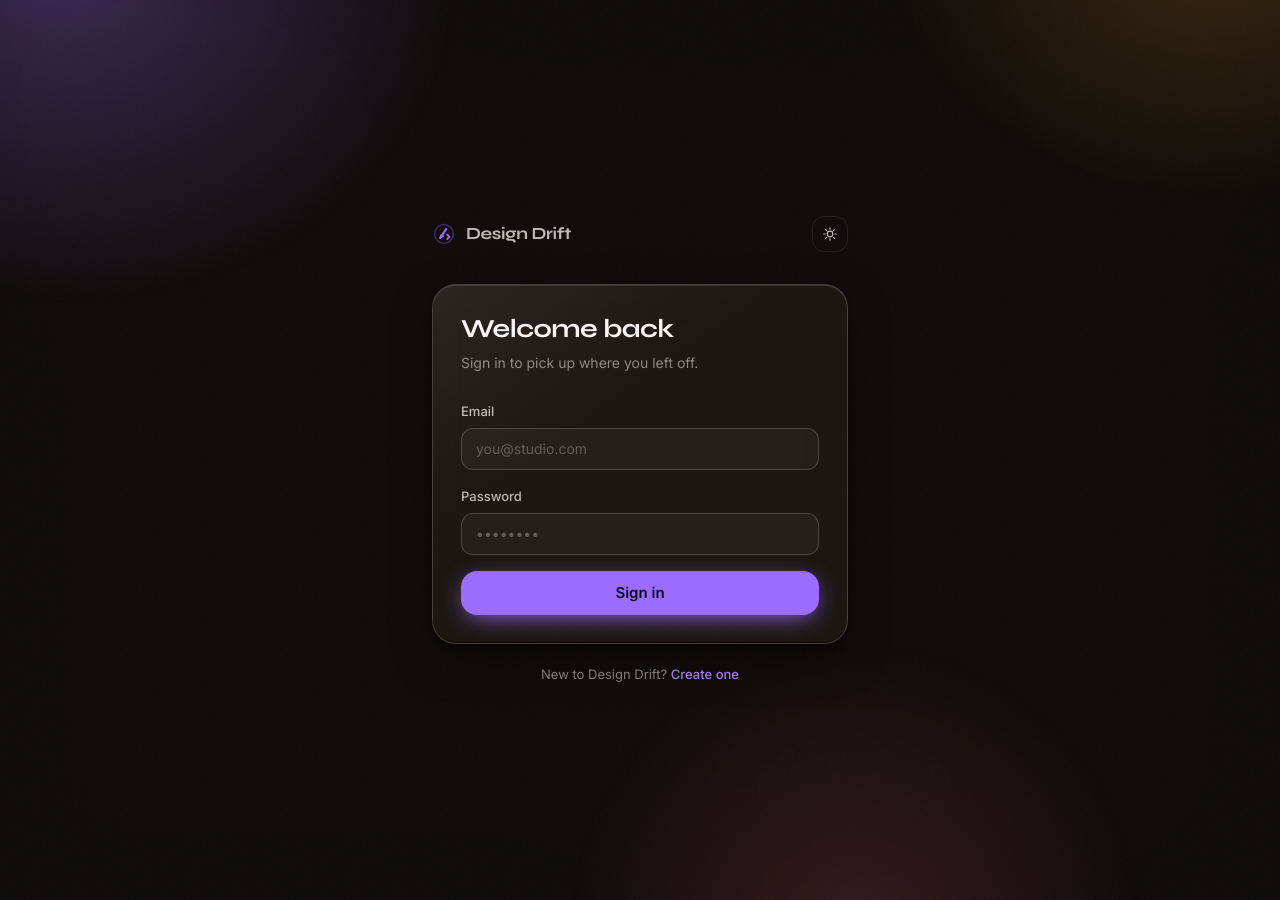
it: App › shows the API’s reason when sign-in fails, and stays on the form
Type "designer@example.com" into the field labelled "Email".
click(640, 449); type("designer@example.com")  # box [461,428,819,470]
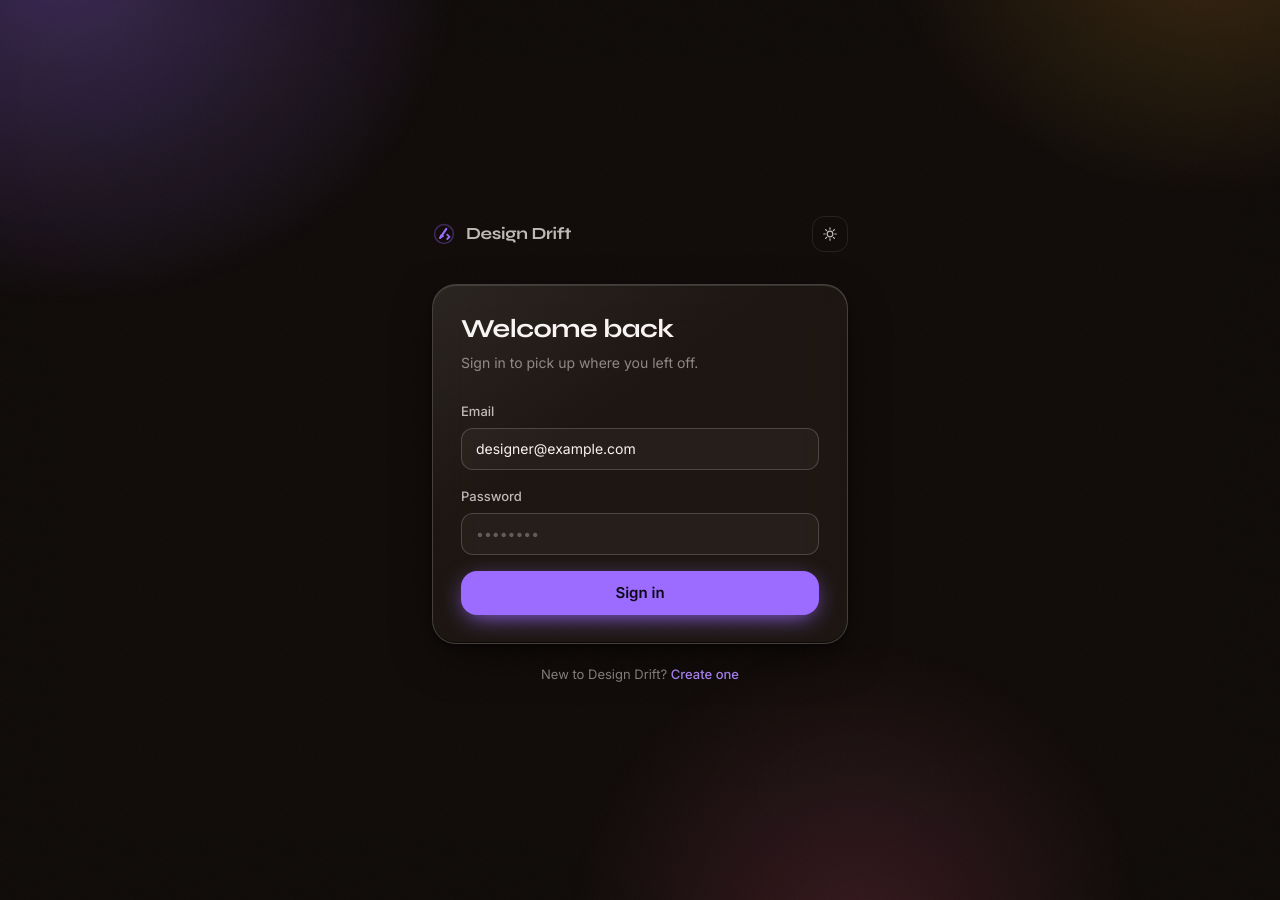
Type "wrong" into the password field labelled "Password".
click(640, 534); type("wrong")  # box [461,513,819,555]
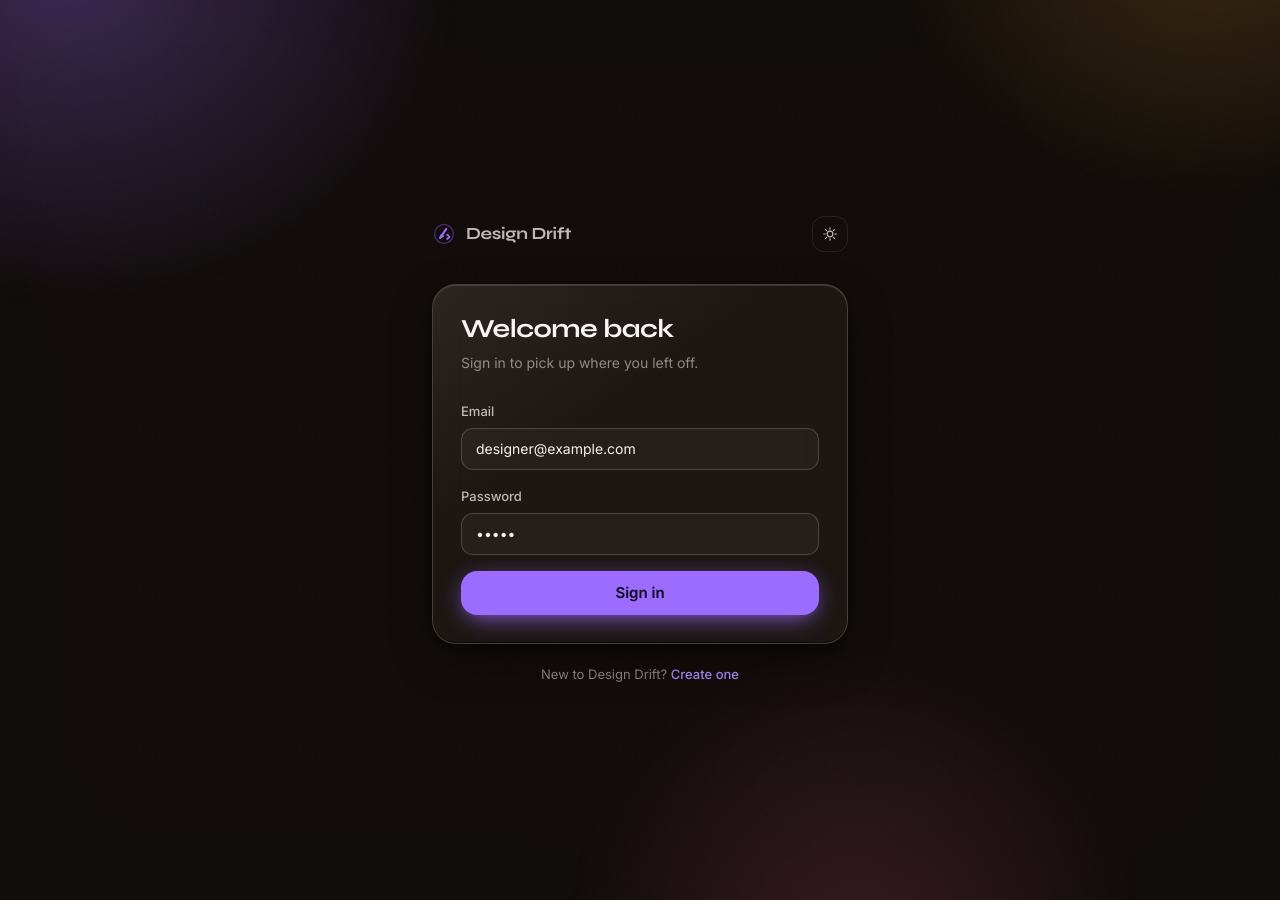
Click the button "Sign in".
click(640, 593)  # box [461,571,819,615]
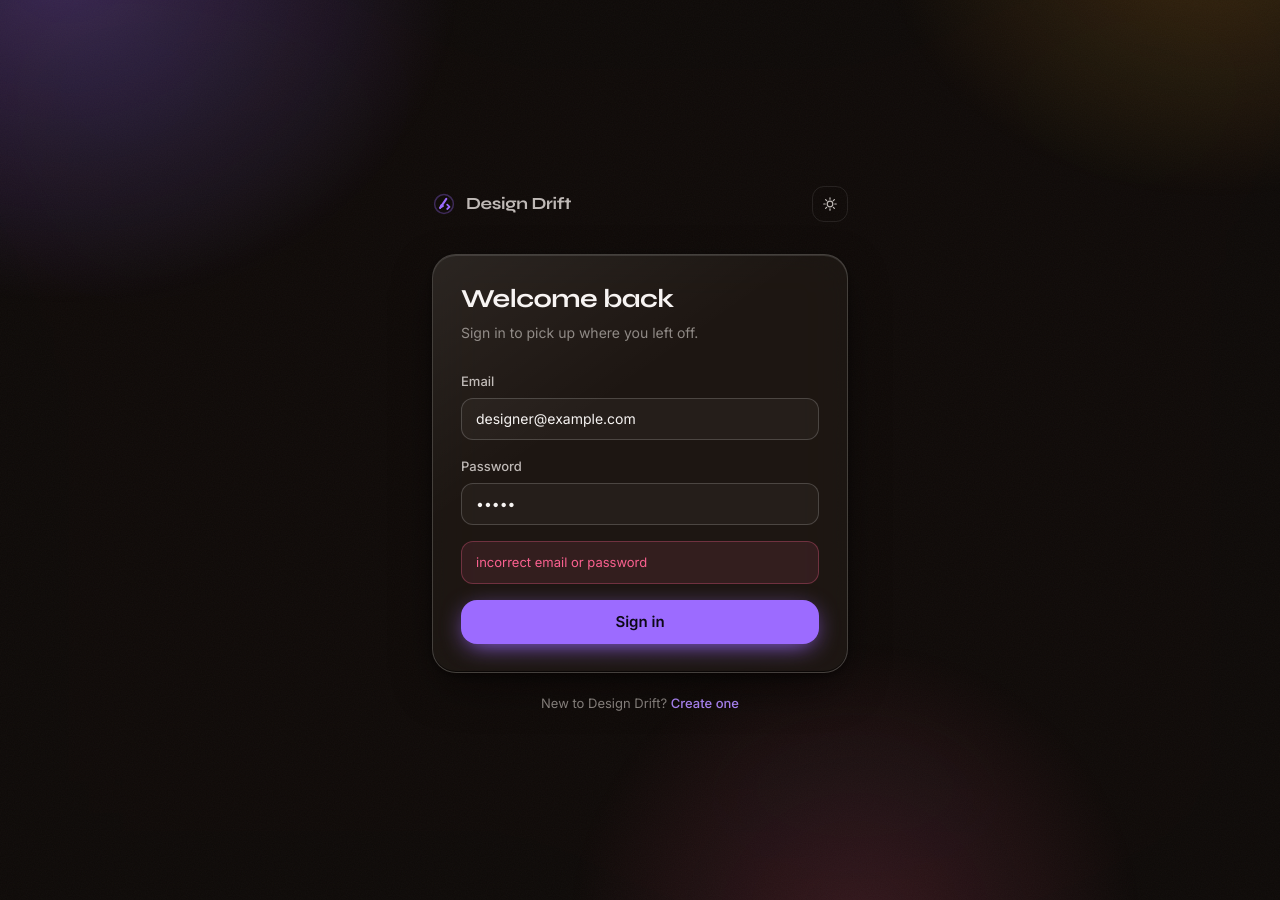
Check: the heading "Welcome back" is shown, box [461,283,674,314]
Check: the message reads "incorrect email or password", box [476,554,647,570]
